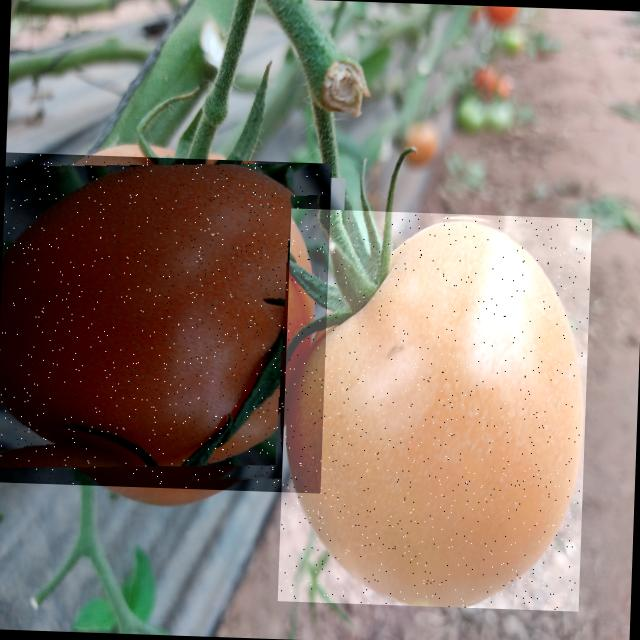Ripe Tomato: (277, 208, 592, 611), (0, 152, 331, 493)
